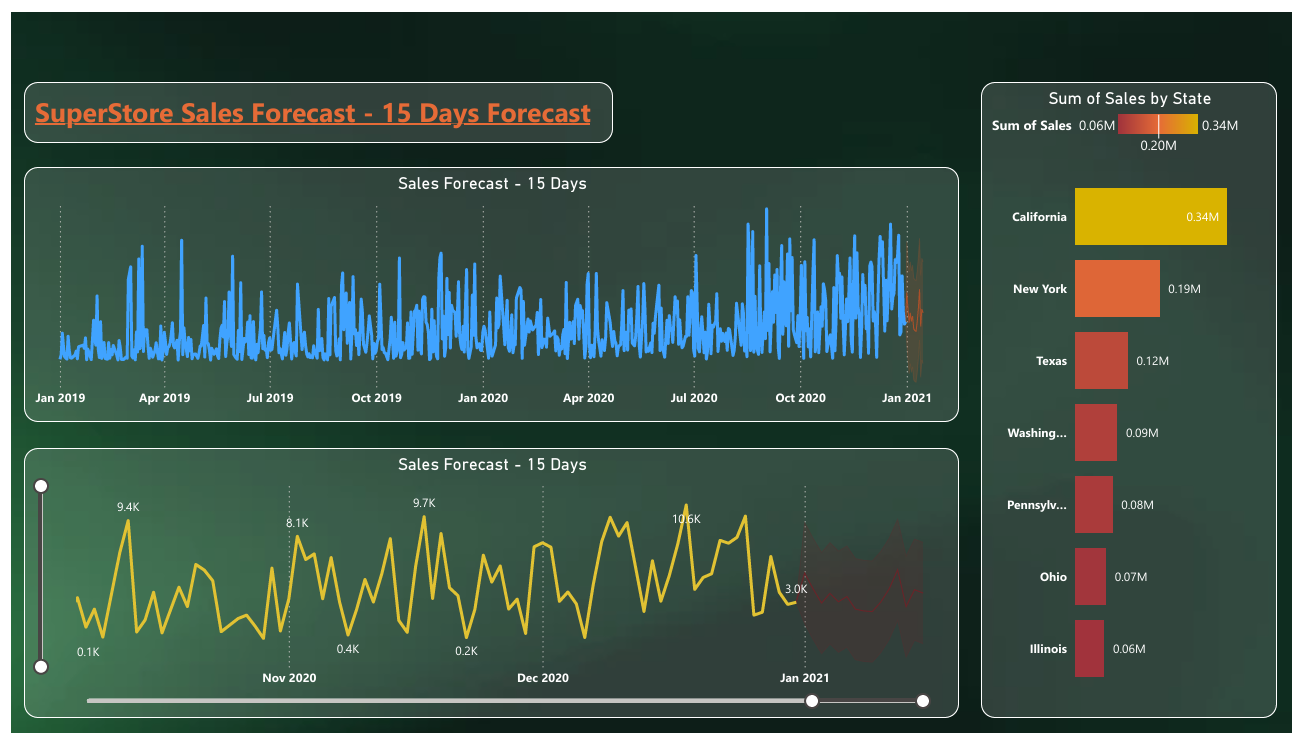

This screenshot's page, from the dashboard's own definition file:
{"tool":"powerbi","page":{"name":"Page 2","canvas":[1280,720],"ordinal":1},"visuals":[{"type":"lineChart","fields":{"Y":["Sum(SuperStore_Sales_Dataset.Sales)"],"Category":["SuperStore_Sales_Dataset.Order Date"]},"box":[0,50,1132.5,236.2],"z":0},{"type":"lineChart","fields":{"Y":["Sum(SuperStore_Sales_Dataset.Sales)"],"Category":["SuperStore_Sales_Dataset.Order Date"]},"box":[0,371.2,1132.5,333.8],"z":1}]}

Visuals, with their boxes in screenshot pixels (x1, y1, x2, y2), scaled from the page's 1280x720 canvas onto the 1302x746 screenshot:
lineChart - Sum(SuperStore_Sales_Dataset.Sales) x SuperStore_Sales_Dataset.Order Date: 0 52 1152 297
lineChart - Sum(SuperStore_Sales_Dataset.Sales) x SuperStore_Sales_Dataset.Order Date: 0 385 1152 730
